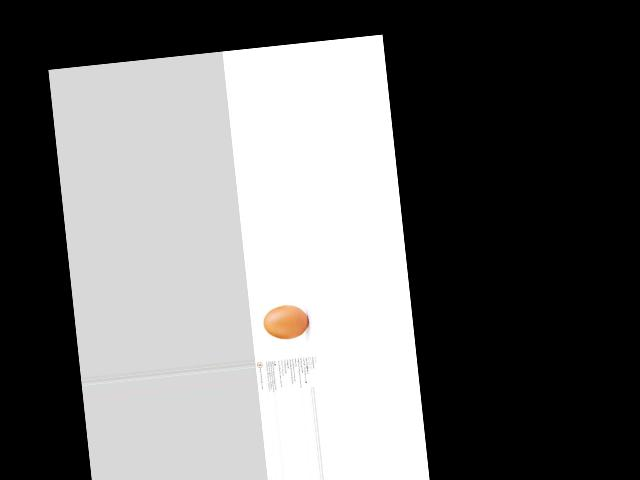egg: (262, 303, 309, 341)
